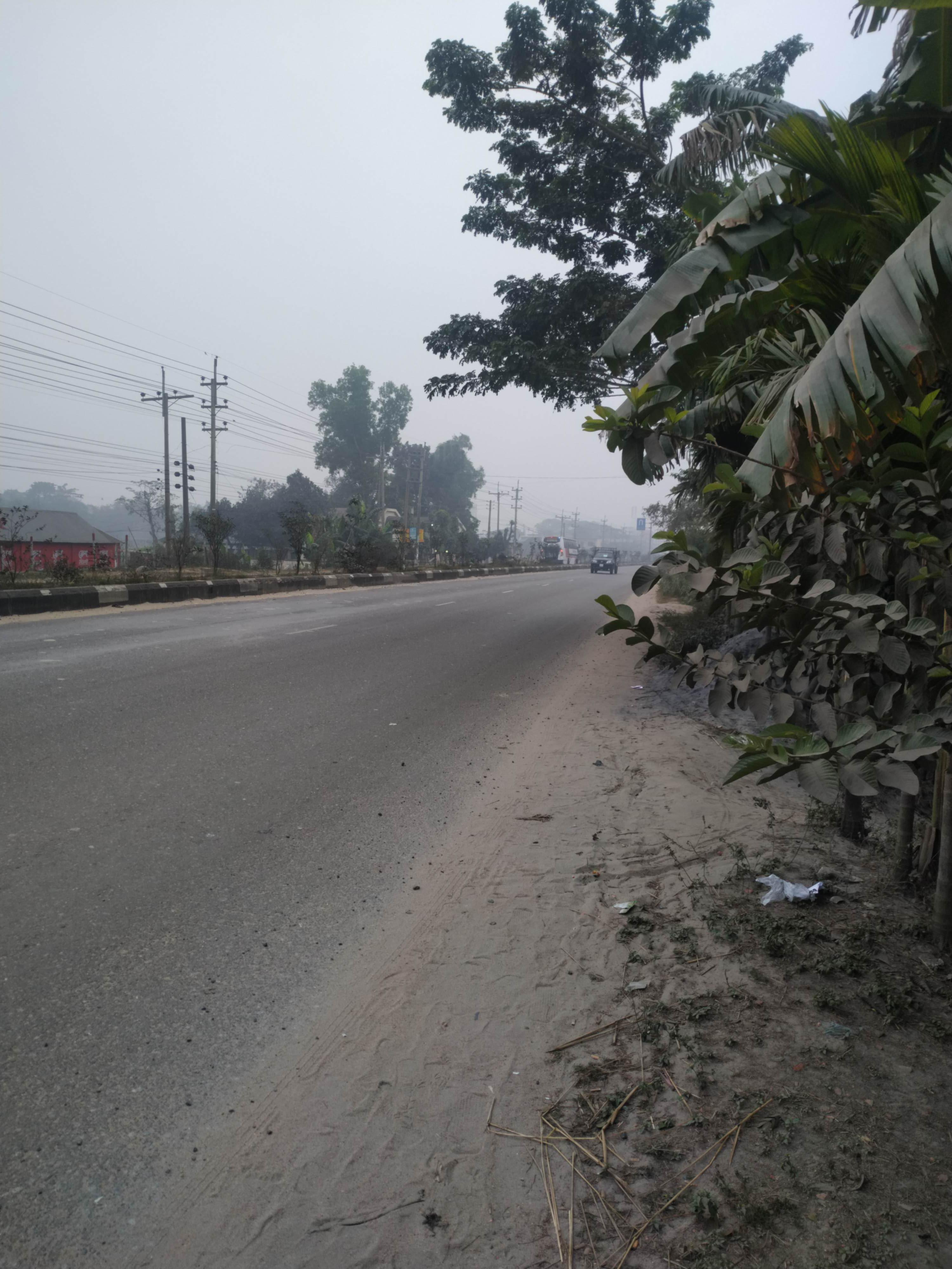Truck: (578, 535, 641, 588)
